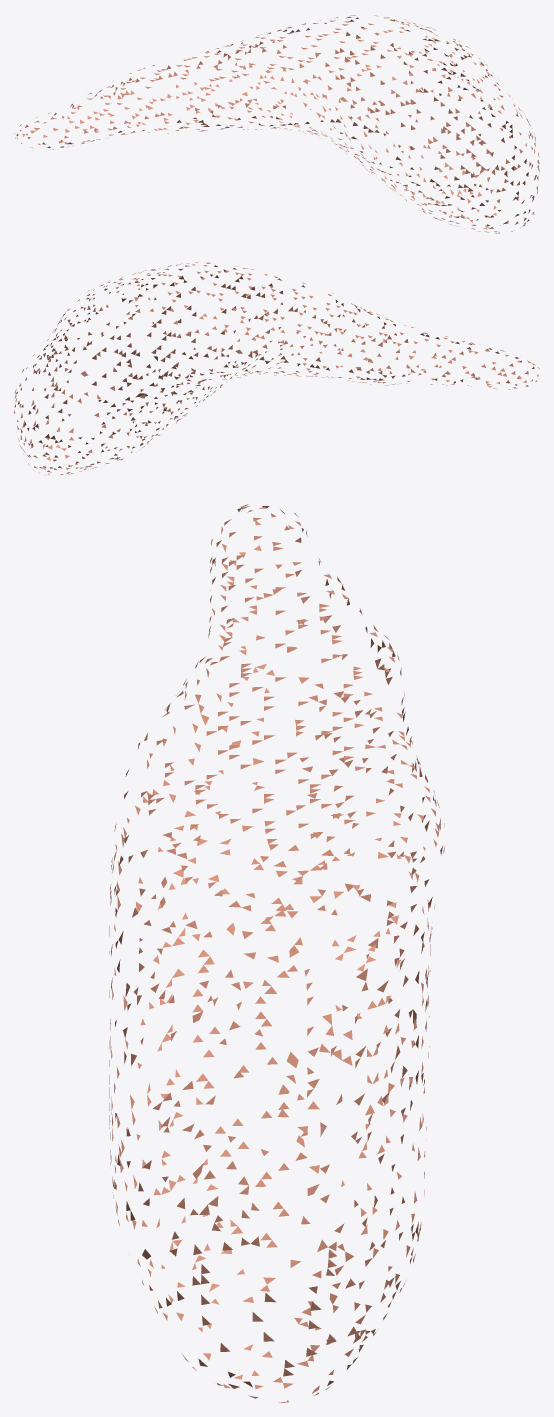
Rendered from morph_003.glb.
3 renders of one model, top to bottom at view 1: azimuth 30°, elevation 25°; view 2: azimuth 150°, elevation 25°; view 3: azimuth 270°, elevation 25°, orthographic. The views are drawn at different scales.
Size of the model in its own units: 76.16 by 32.26 by 21.89.
